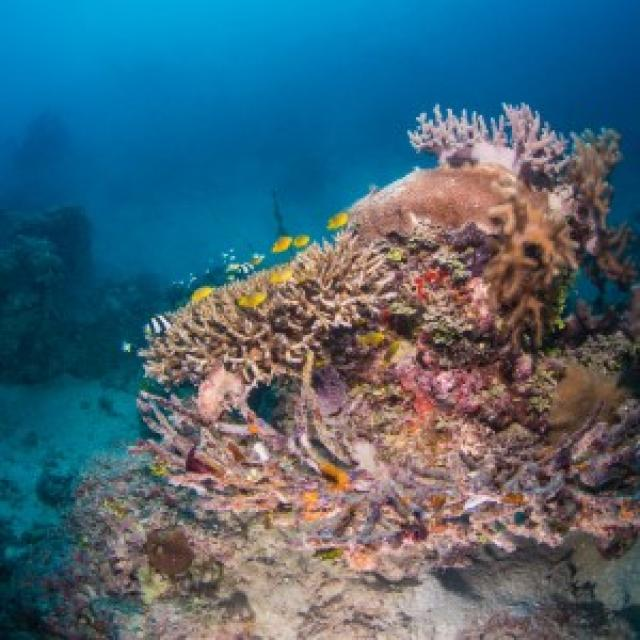Bleached: (411, 103, 577, 193)
Healthy: (142, 221, 487, 389), (74, 398, 289, 603), (351, 152, 575, 336), (317, 475, 543, 581)
